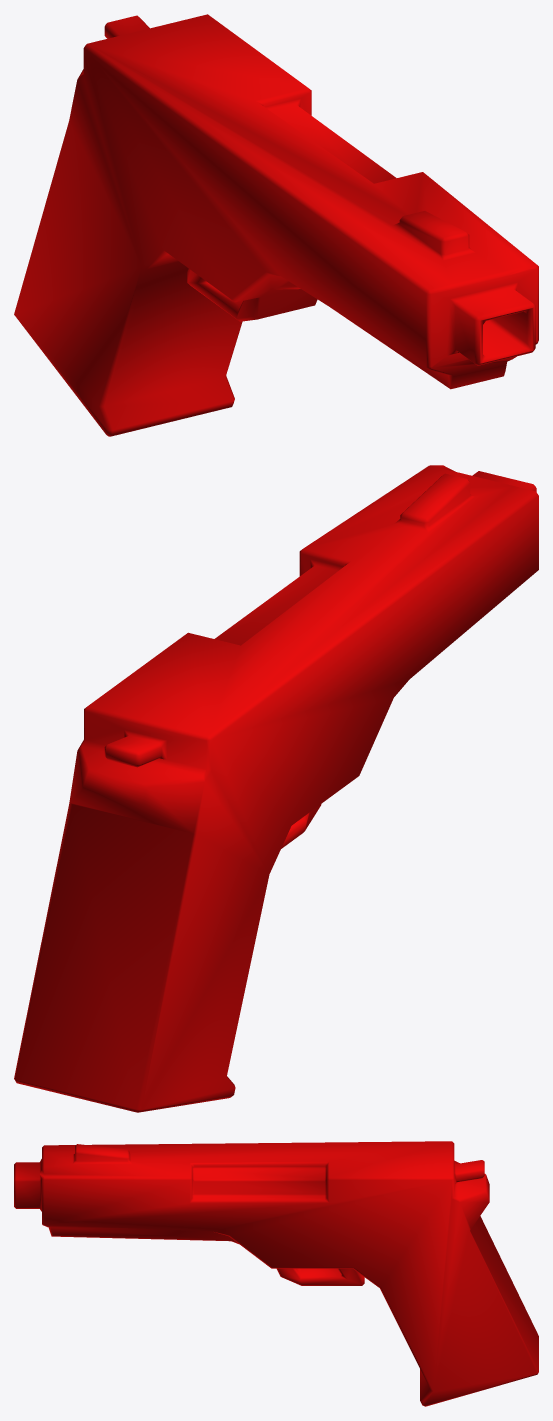
The model's file is Gun_Generic.fbx.
3 renders of one model, top to bottom at view 1: azimuth 30°, elevation 25°; view 2: azimuth 150°, elevation 25°; view 3: azimuth 270°, elevation 25°, orthographic. The views are drawn at different scales.
Parts seen in each view (by area): view 1: Cube; view 2: Cube; view 3: Cube.
Part boxes in pixels (<box>): Cube: <box>14,14,538,436</box>; Cube: <box>14,465,538,1112</box>; Cube: <box>14,1141,538,1406</box>.
Size of the model in its own units: 50.04 by 149 by 294.
